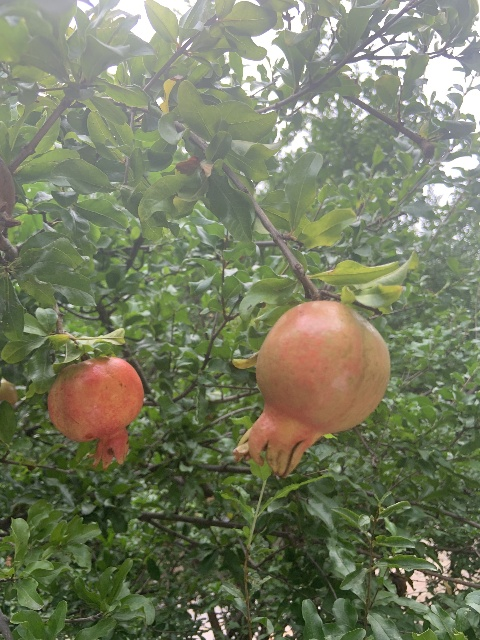ripe: (234, 300, 390, 478), (47, 356, 144, 471)
